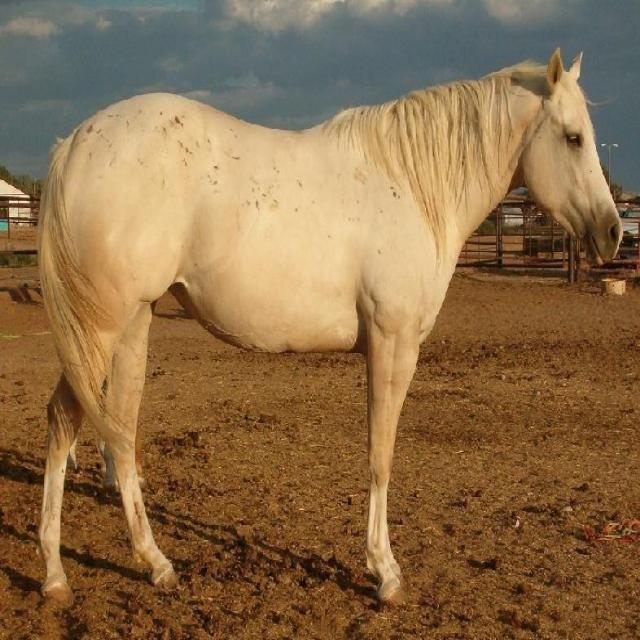horse: (35, 46, 623, 608)
